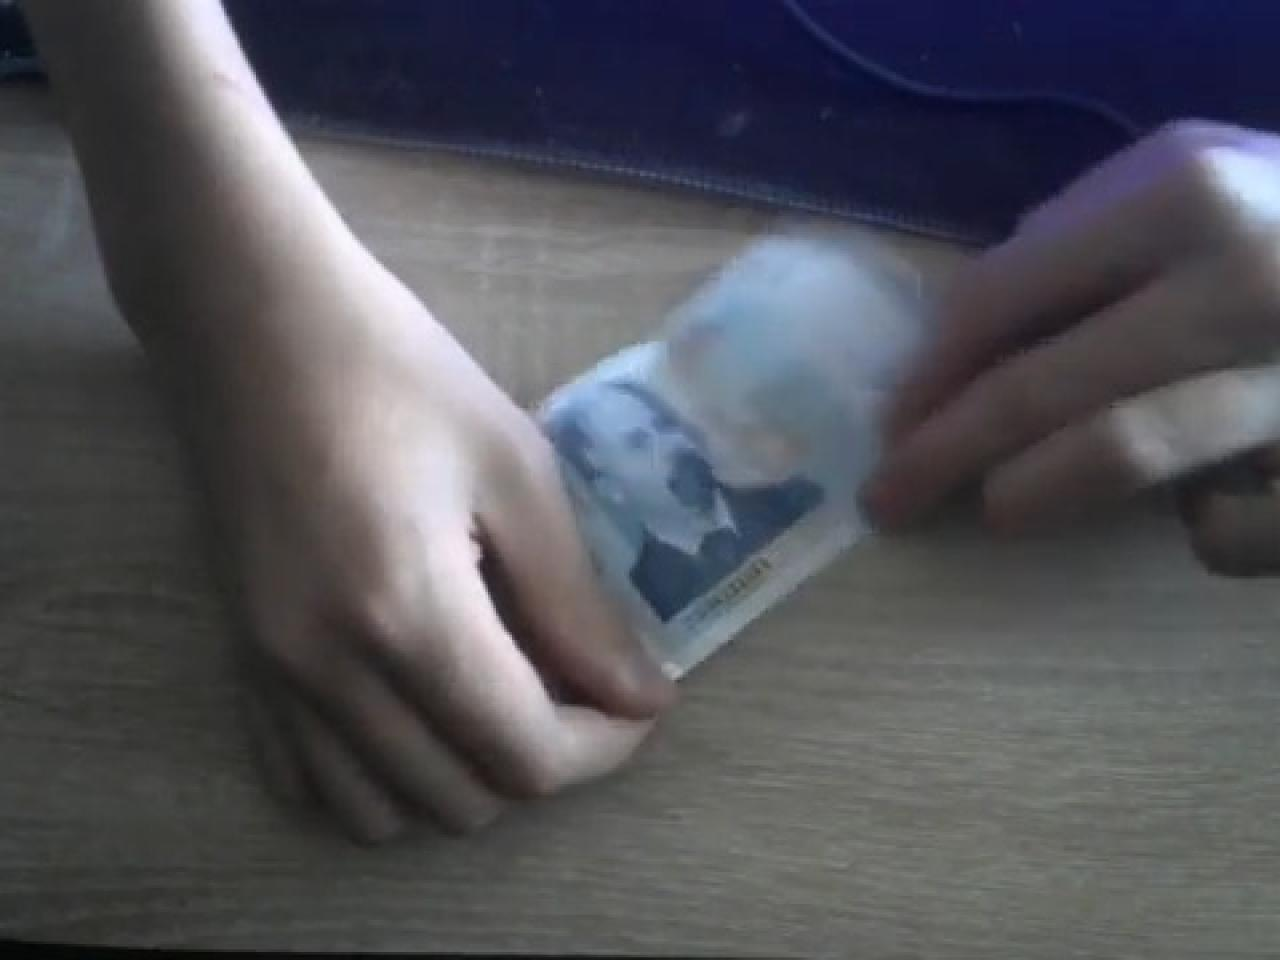20leva: (525, 227, 933, 686)
